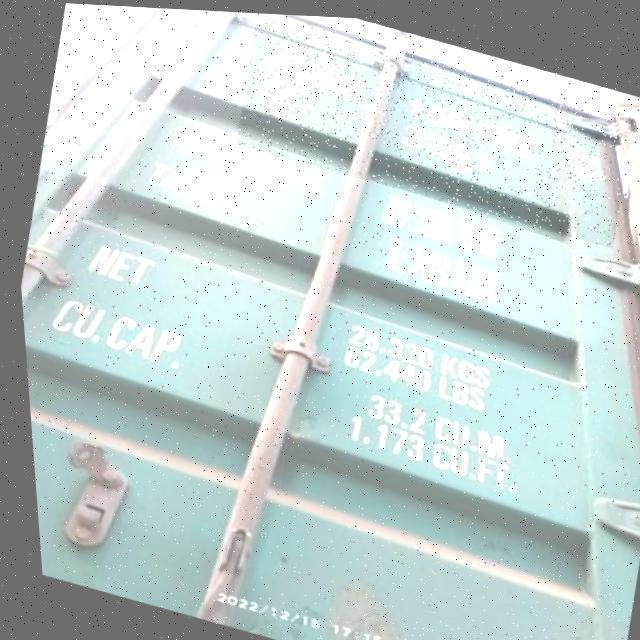container_number_h: (226, 9, 640, 243)
